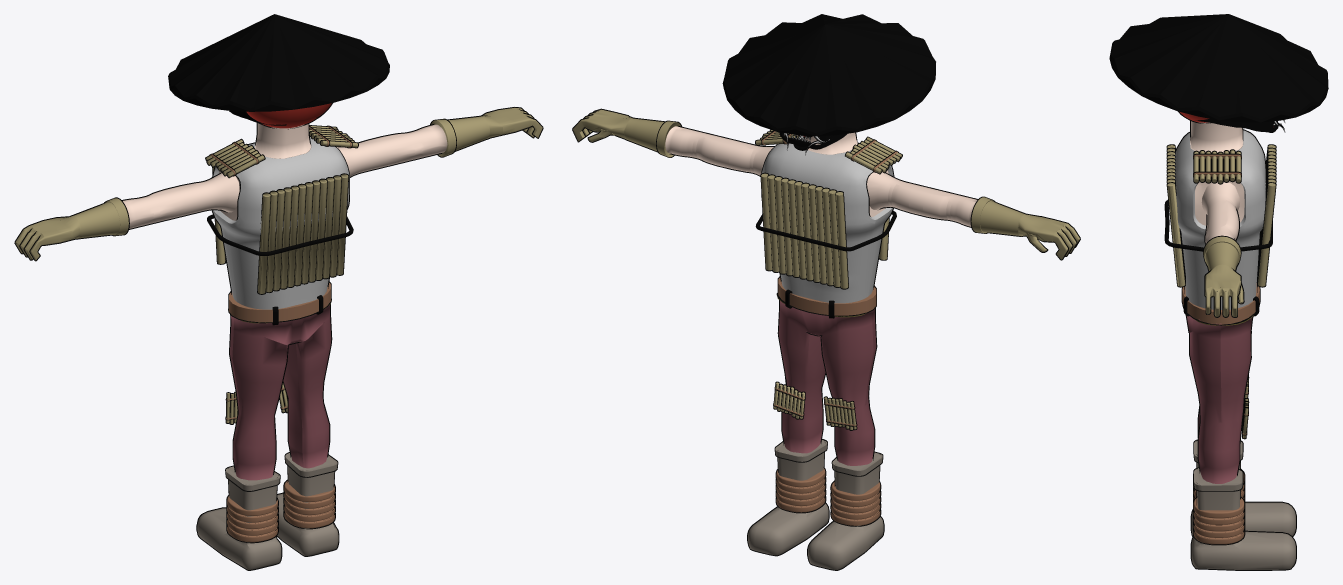
The model's file is Character3.fbx.
3 renders of one model, left to right at view 1: azimuth 30°, elevation 25°; view 2: azimuth 150°, elevation 25°; view 3: azimuth 270°, elevation 25°, orthographic. The views are drawn at different scales.
Visible parts, largest first — view 1: Cone; view 2: Cone; view 3: Cone.
Boxes of the visible parts, <box> form: Cone: <box>14,14,543,570</box>; Cone: <box>572,14,1080,570</box>; Cone: <box>1109,14,1328,570</box>.
Size of the model in its own units: 1226 by 1215 by 453.
